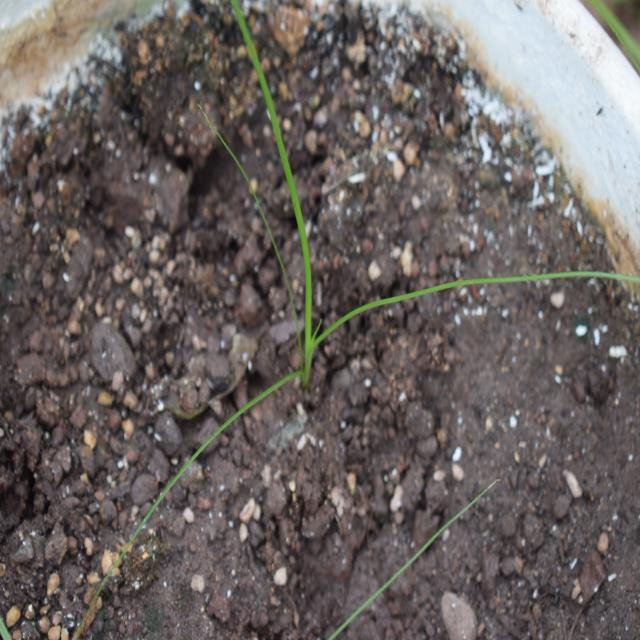sedge: (152, 24, 504, 504)
